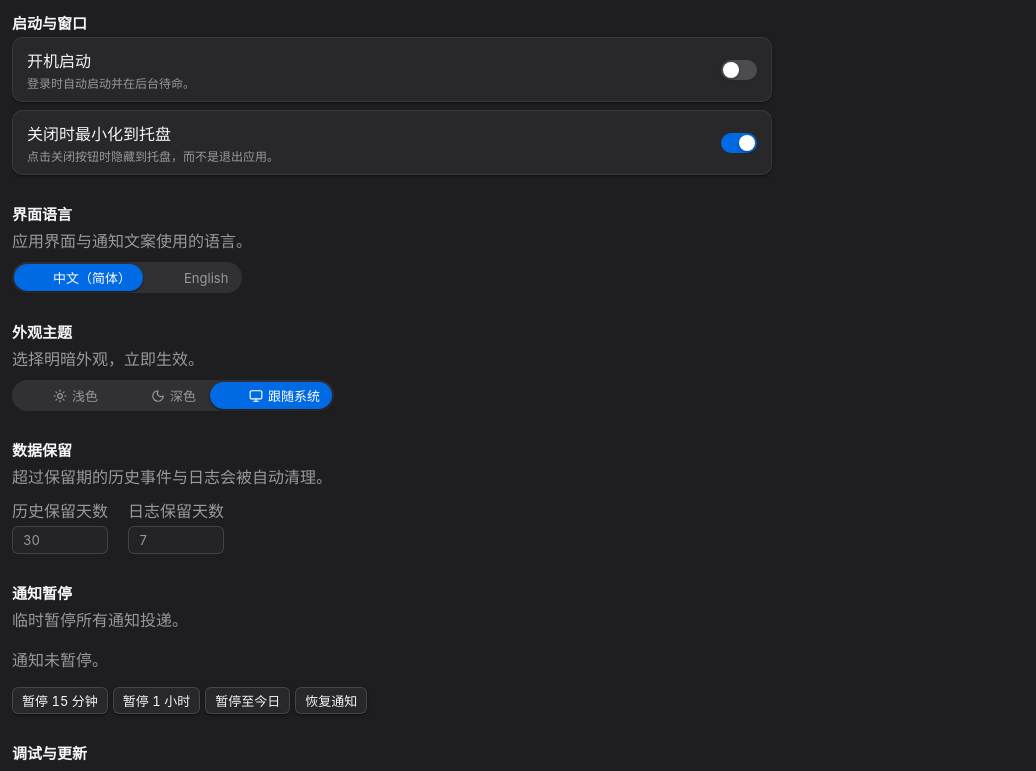
Test: a changed language discloses that it applies after a restart
Expected: the element named "语言" is shown, [12,262,242,293]
Click the radio button labelled "English" at x=206, y=278, box [184,270,228,286]
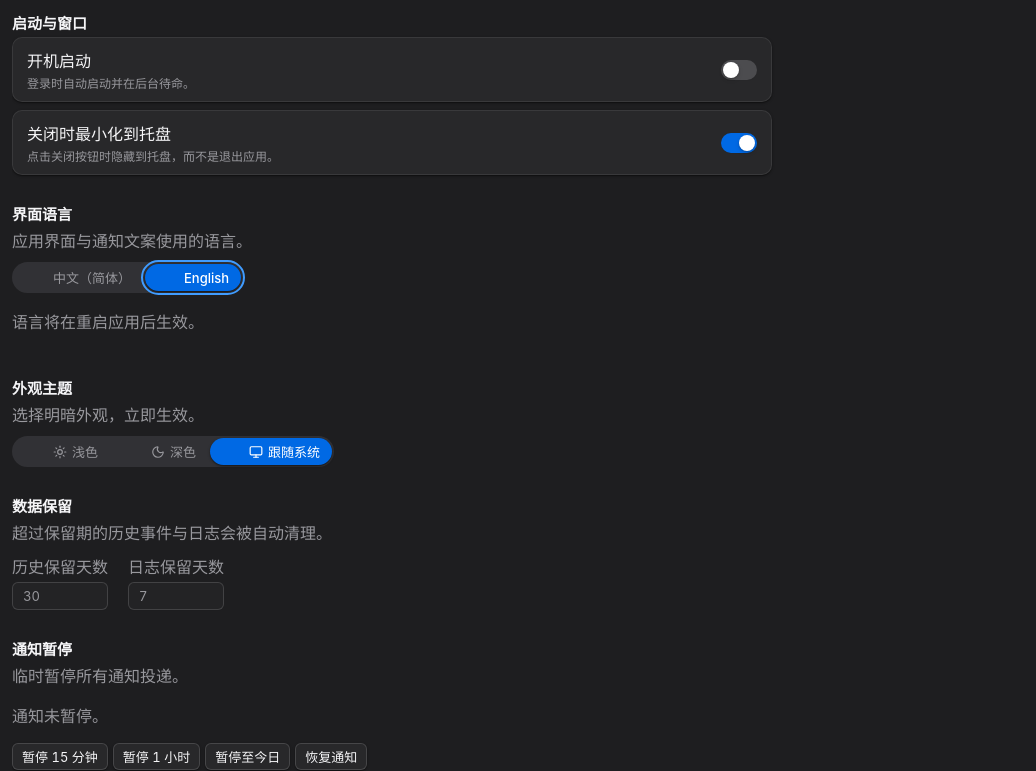
Expected: the text "语言将在重启应用后生效。" is shown, [12,312,204,332]
